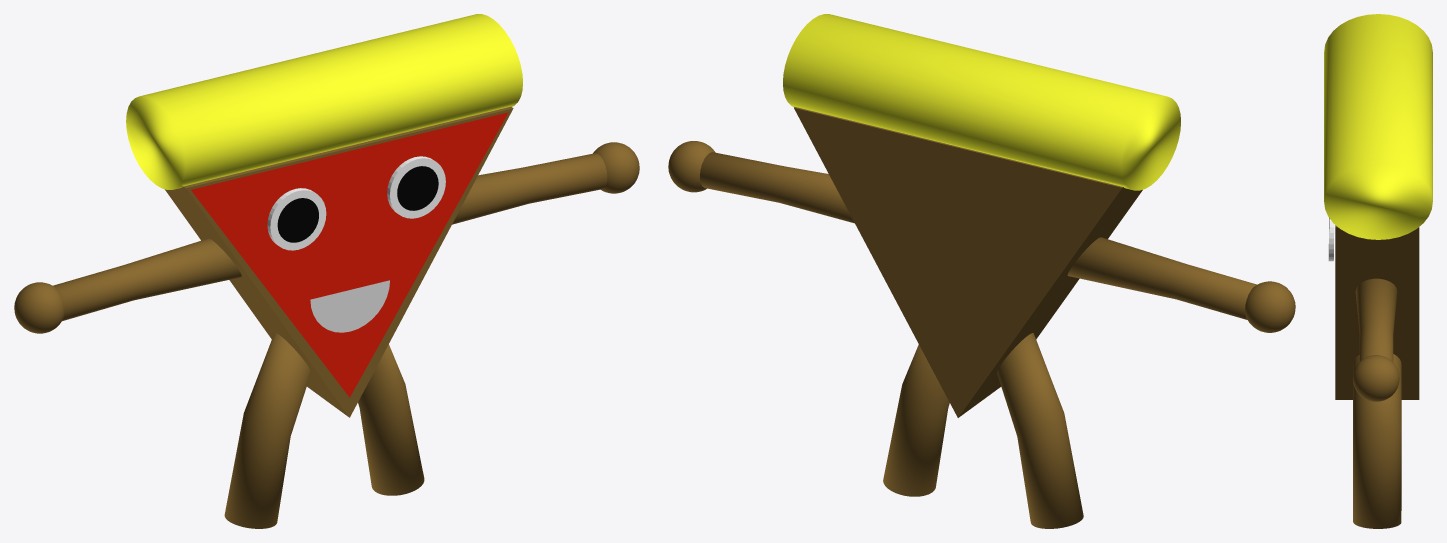
Rendered from PizzaAnamatronic.fbx_Scene.fbx.
The picture shows the model from 3 angles, left to right: view 1: azimuth 30°, elevation 25°; view 2: azimuth 150°, elevation 25°; view 3: azimuth 270°, elevation 25°; orthographic projection. The views are drawn at different scales.
Parts seen in each view (by area): view 1: Cube, Cylinder, Hands, Cylinder.001, EyeBall, EyeBall.001, Circle; view 2: Cube, Cylinder, Hands, Cylinder.001; view 3: Cylinder, Cube, Cylinder.001, Hands, EyeBall.001.
Part boxes in pixels (x1,y1,x2,y2): Cube: [165, 106, 513, 417]; Cylinder: [126, 14, 522, 189]; Hands: [14, 142, 639, 333]; Cylinder.001: [224, 333, 424, 528]; EyeBall: [267, 188, 326, 250]; EyeBall.001: [387, 156, 445, 218]; Circle: [310, 280, 389, 332]; Cube: [794, 107, 1142, 417]; Cylinder: [783, 14, 1180, 190]; Hands: [668, 141, 1295, 332]; Cylinder.001: [883, 333, 1083, 528]; Cylinder: [1324, 14, 1432, 239]; Cube: [1335, 225, 1419, 399]; Cylinder.001: [1353, 354, 1401, 528]; Hands: [1353, 278, 1399, 401]; EyeBall.001: [1328, 218, 1334, 261].
Bounding box in the file's own units: 1552 × 1062 × 259.
